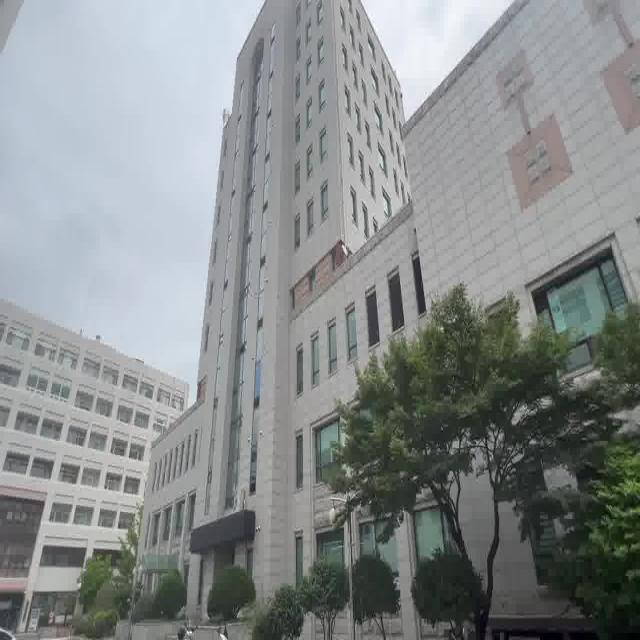building: (206, 29, 340, 506)
